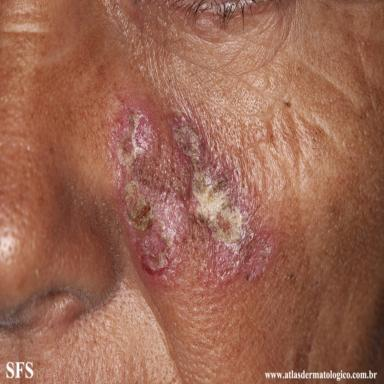Lupus-Erythematosus-Chronicus-Discoides: (115, 110, 271, 279)
